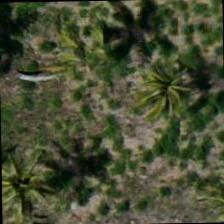Kelapa_Sawit: (119, 40, 212, 132), (0, 143, 62, 223)
